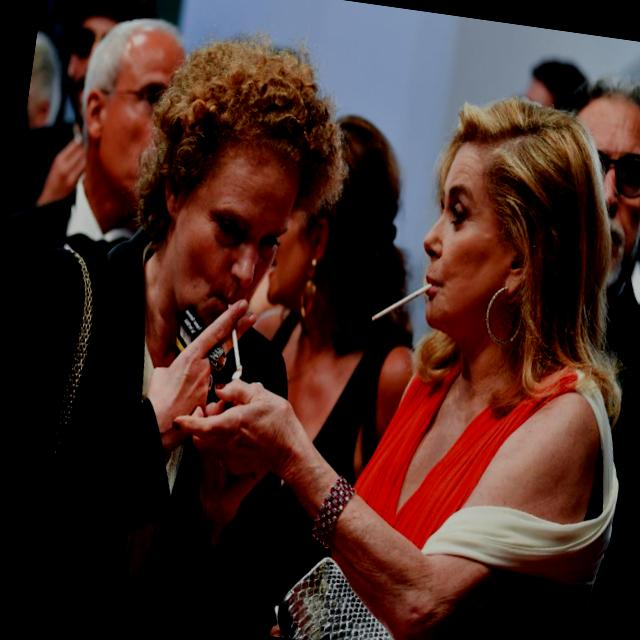cigarette: (358, 248, 448, 338), (210, 293, 269, 387)
